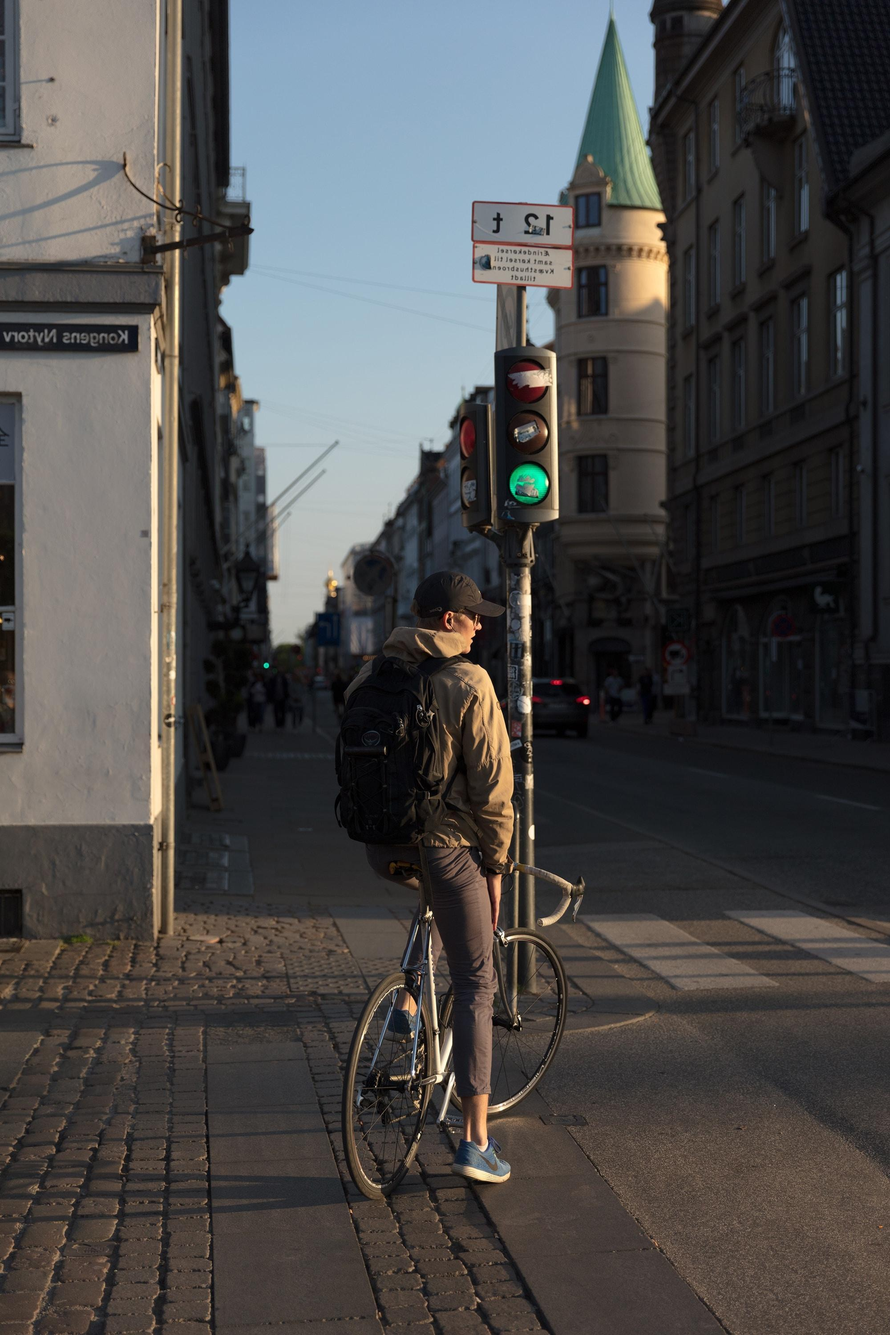green: (463, 325, 601, 543)
